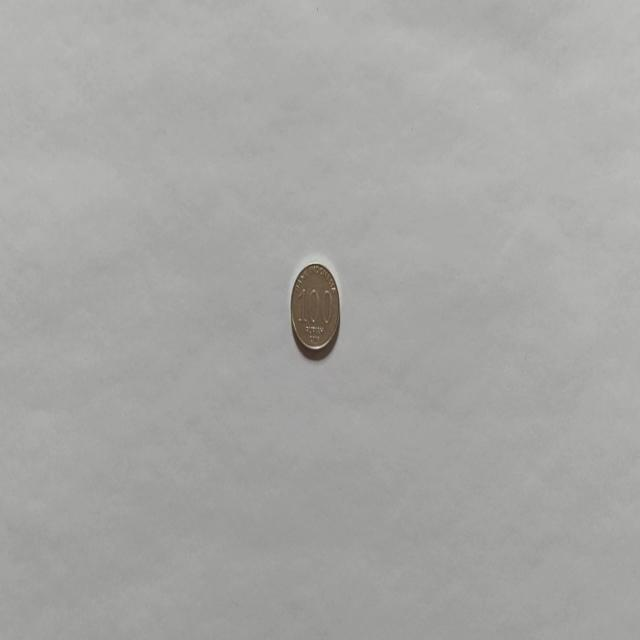seratus rupiah: (289, 260, 341, 356)
